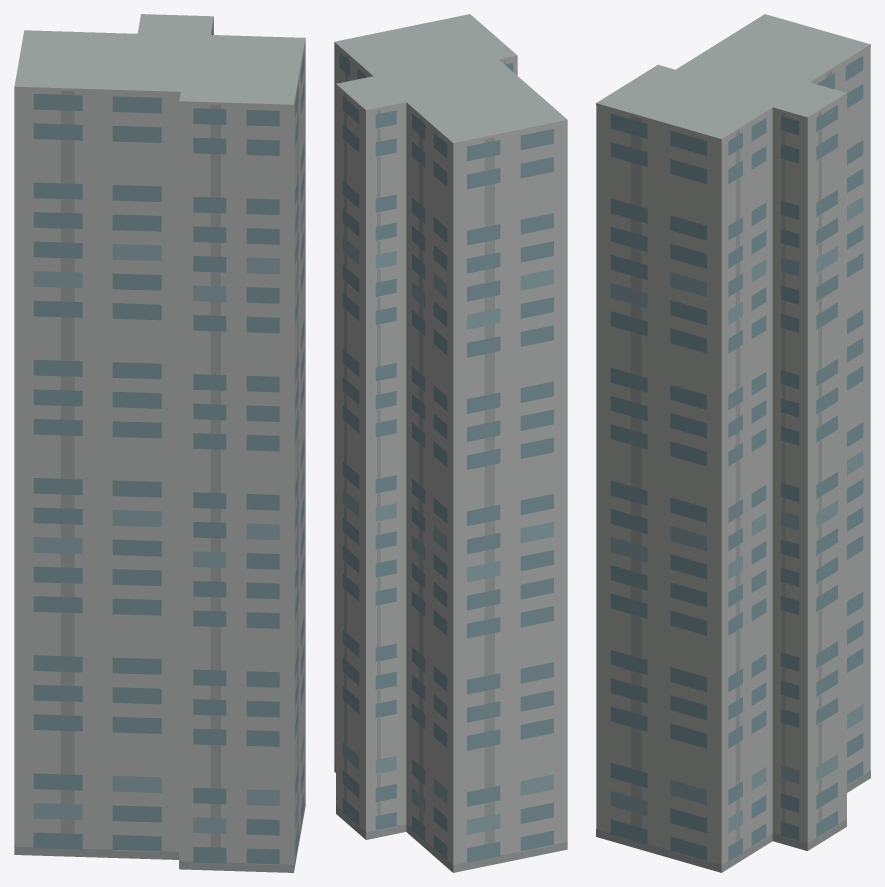
Rendered from residential-31e6a8db-23e9-4ea8-b73f-005d36638682.glb.
The picture shows the model from 3 angles, left to right: view 1: azimuth 30°, elevation 25°; view 2: azimuth 150°, elevation 25°; view 3: azimuth 270°, elevation 25°; orthographic projection. The views are drawn at different scales.
Parts seen in each view (by area): view 1: residential-31e6a8db-23e9-4ea8-b73f-005d36638682.tmp; view 2: residential-31e6a8db-23e9-4ea8-b73f-005d36638682.tmp; view 3: residential-31e6a8db-23e9-4ea8-b73f-005d36638682.tmp.
Part boxes in pixels (x1,y1,x2,y2): residential-31e6a8db-23e9-4ea8-b73f-005d36638682.tmp: [14, 14, 305, 872]; residential-31e6a8db-23e9-4ea8-b73f-005d36638682.tmp: [334, 14, 567, 872]; residential-31e6a8db-23e9-4ea8-b73f-005d36638682.tmp: [596, 14, 870, 872].
Bounding box in the file's own units: 26.7 × 73 × 24.77.
